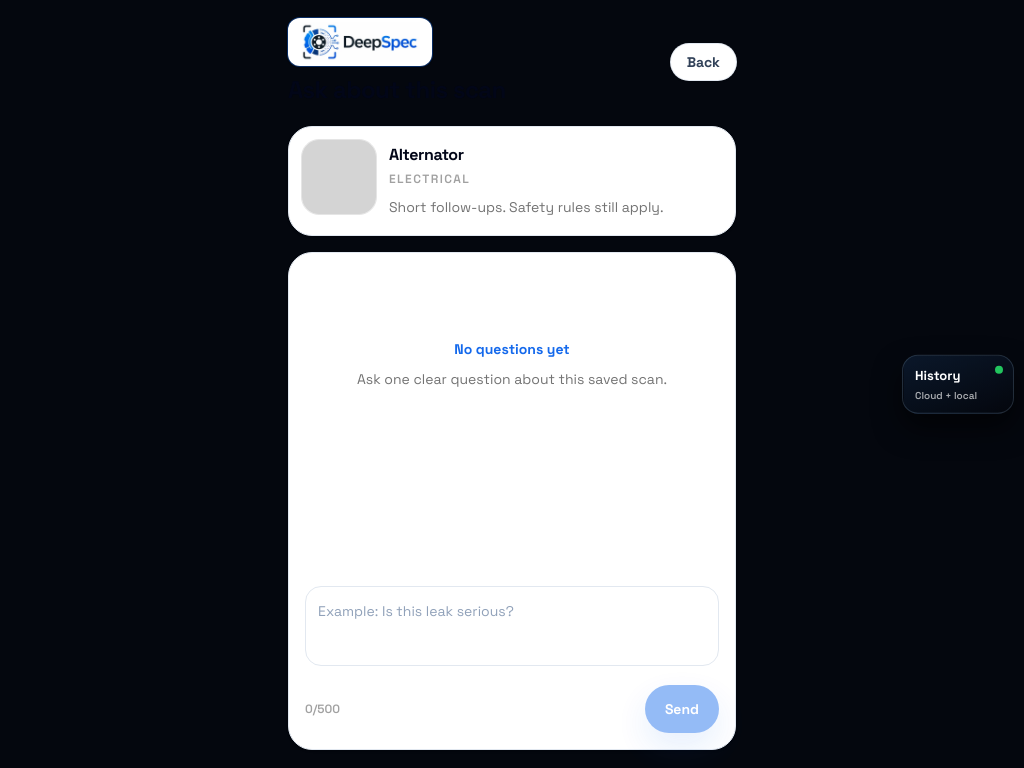
Test case: Chat › sends a follow-up and saves the chat history
Type "What does it do?" into the text box named "Ask a follow-up question". click: (512, 626)
box: [305,586,719,666]
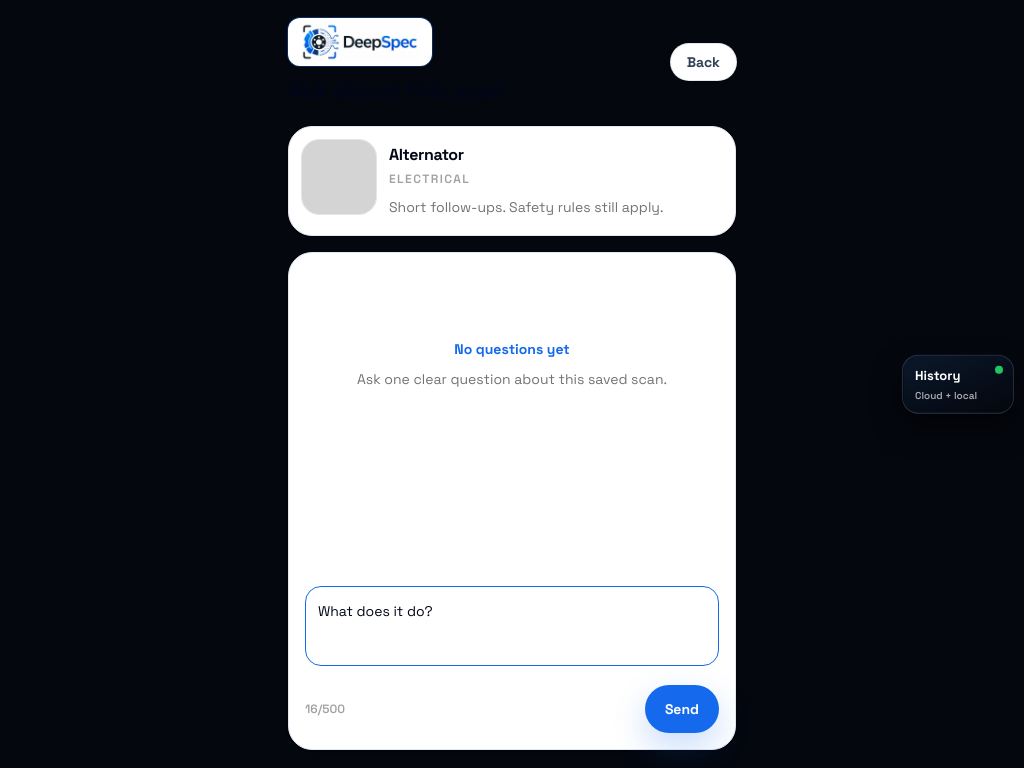
Click the button "Send". click: (682, 709)
box: [645,685,719,733]
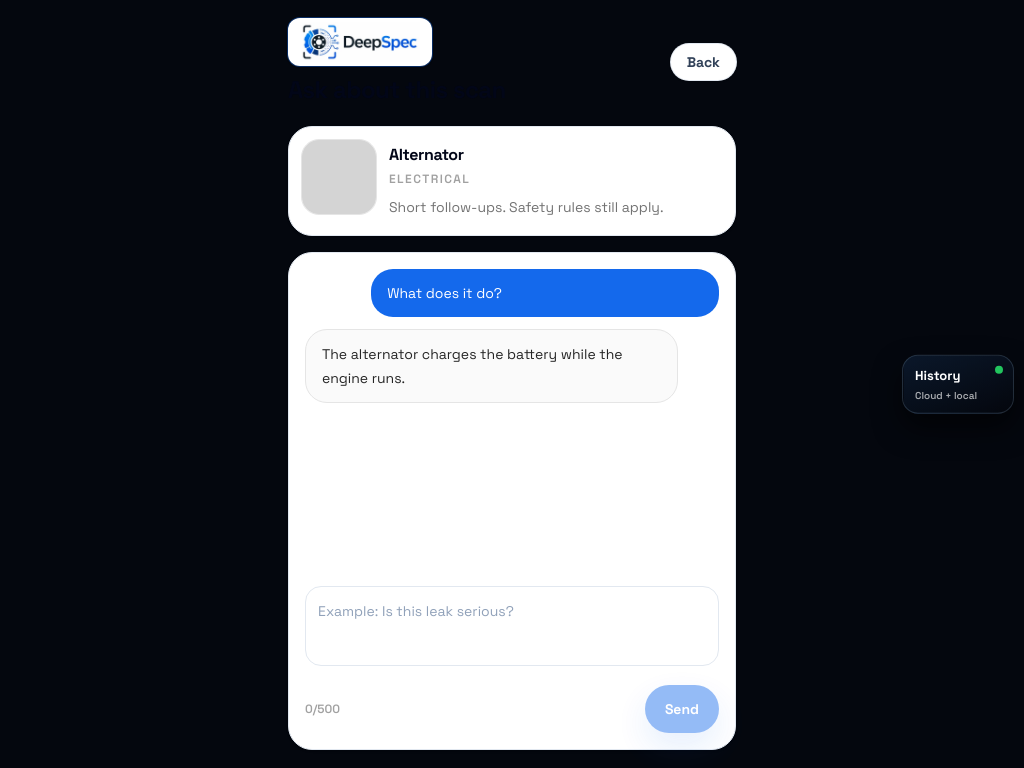
Now the text "The alternator charges the battery while the engine runs." is shown, box [305,329,678,403]
